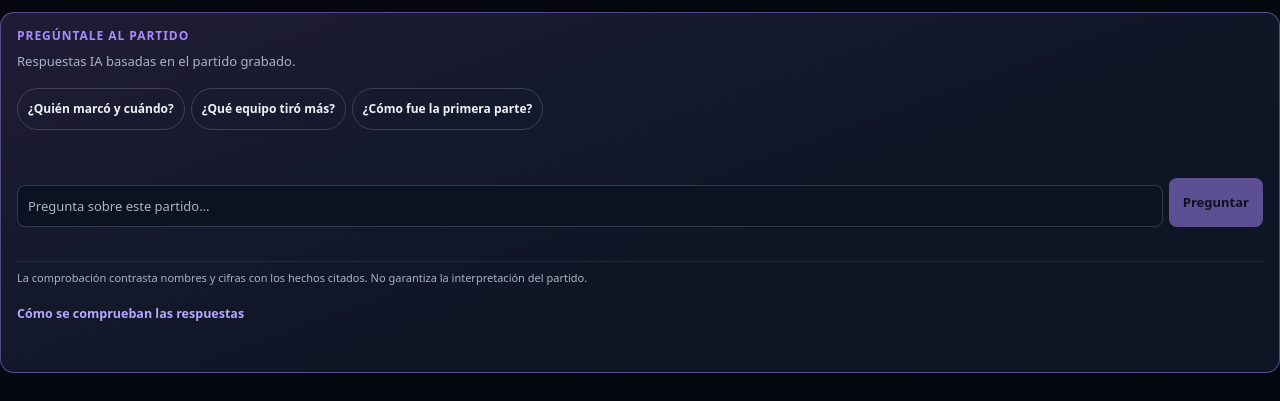
Test: says when a question is not about the match, and explains the limits
The width and height of the screenshot is (1280, 401).
Type "Escribe un poema" into the field at {"x": 590, "y": 206}, box [17,184,1163,226]
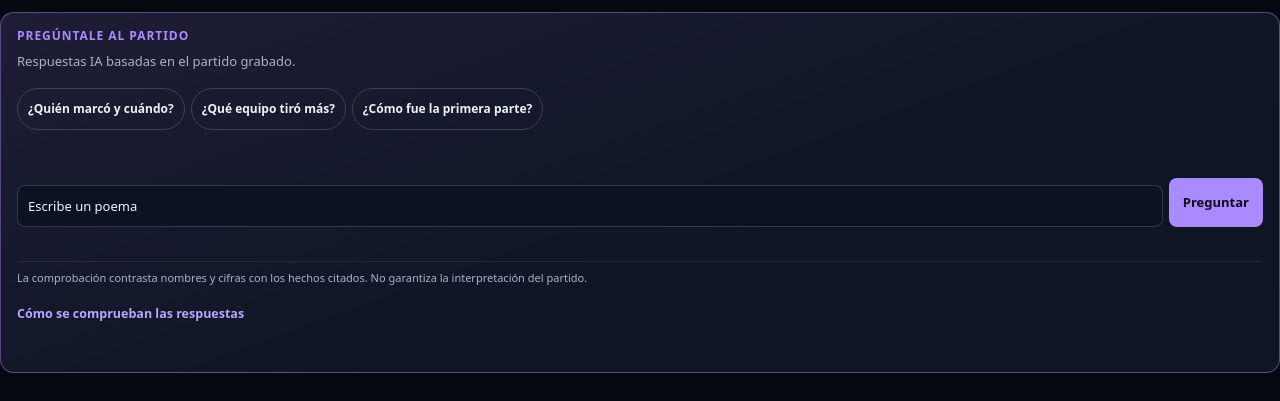
Click the button "Preguntar" at {"x": 1216, "y": 202}, box [1169,178,1263,226]
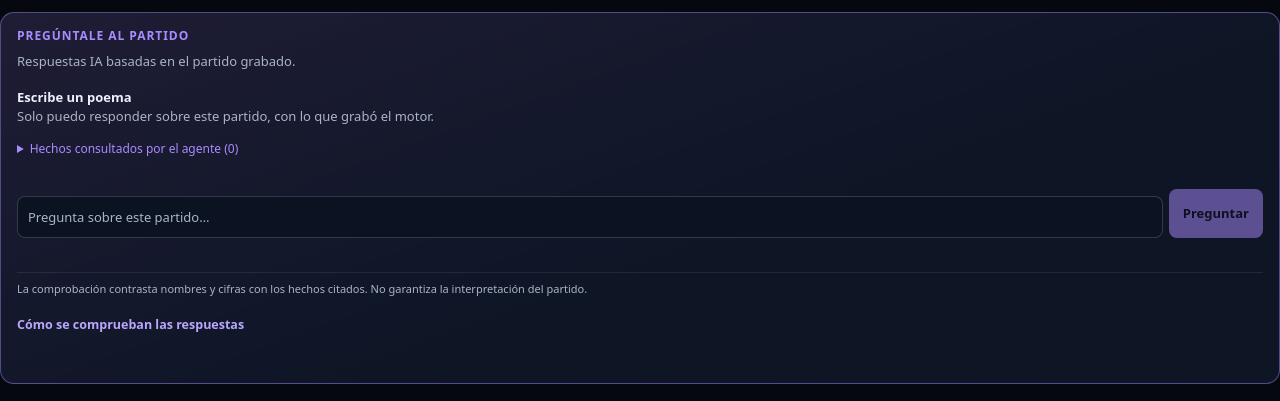
Now the text "Solo puedo responder sobre este partido, con lo que grabó el motor." is shown, box [17,107,434,125]
